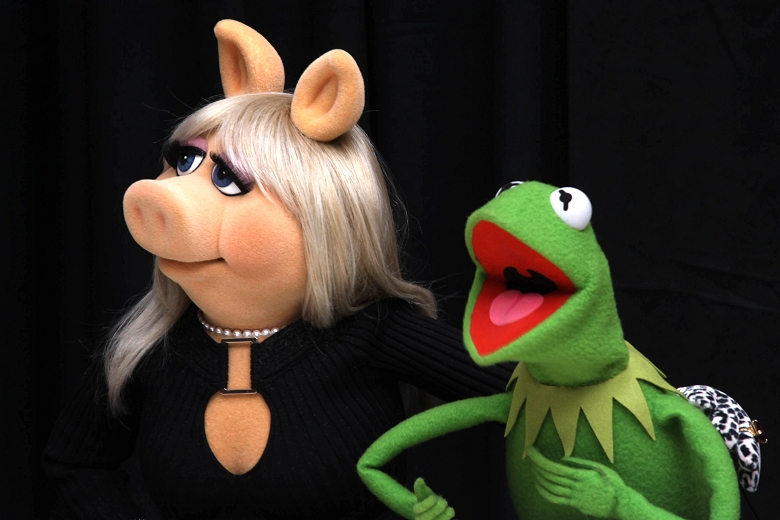kermit: (462, 172, 638, 391)
